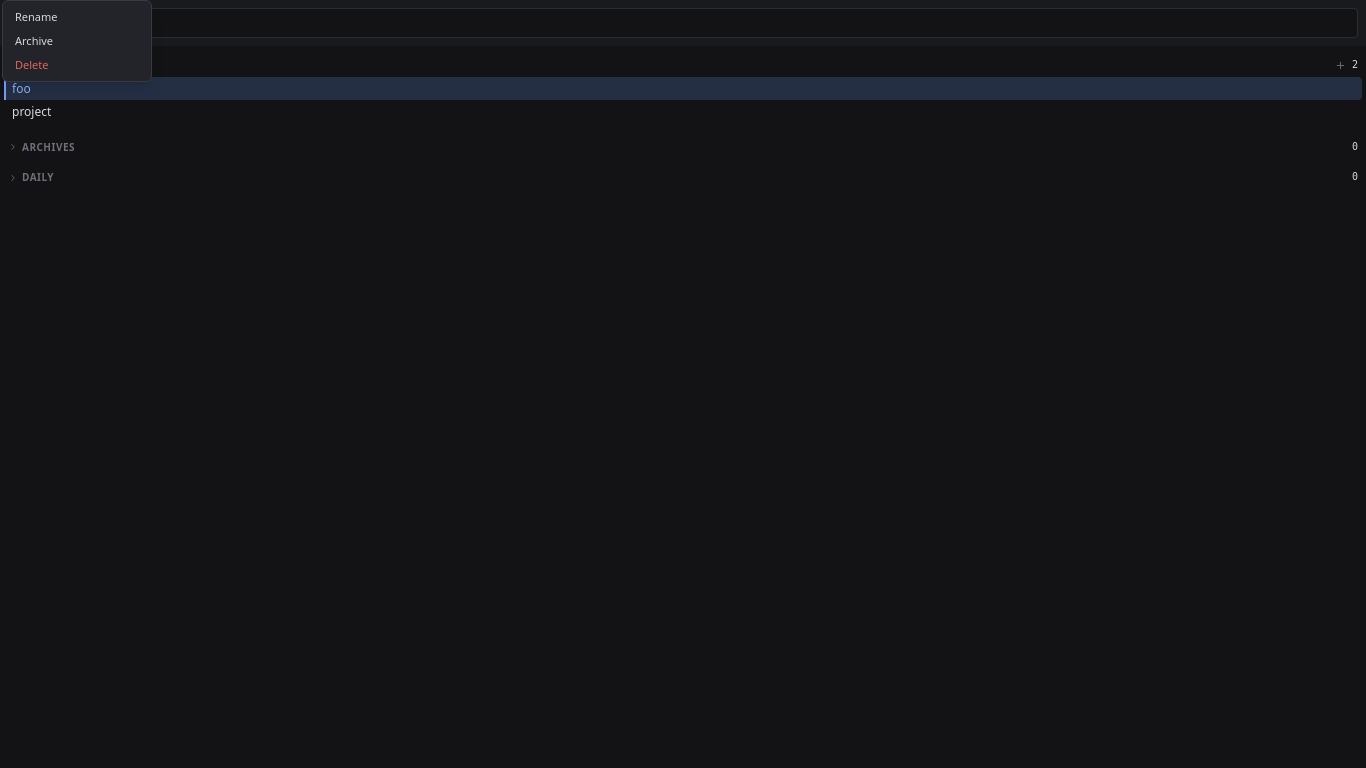
RenameNoteDialog › a 409 collision keeps the dialog open with the server message
Click the menu item "Rename" at (36, 16), box left=15, top=9, right=58, bottom=24
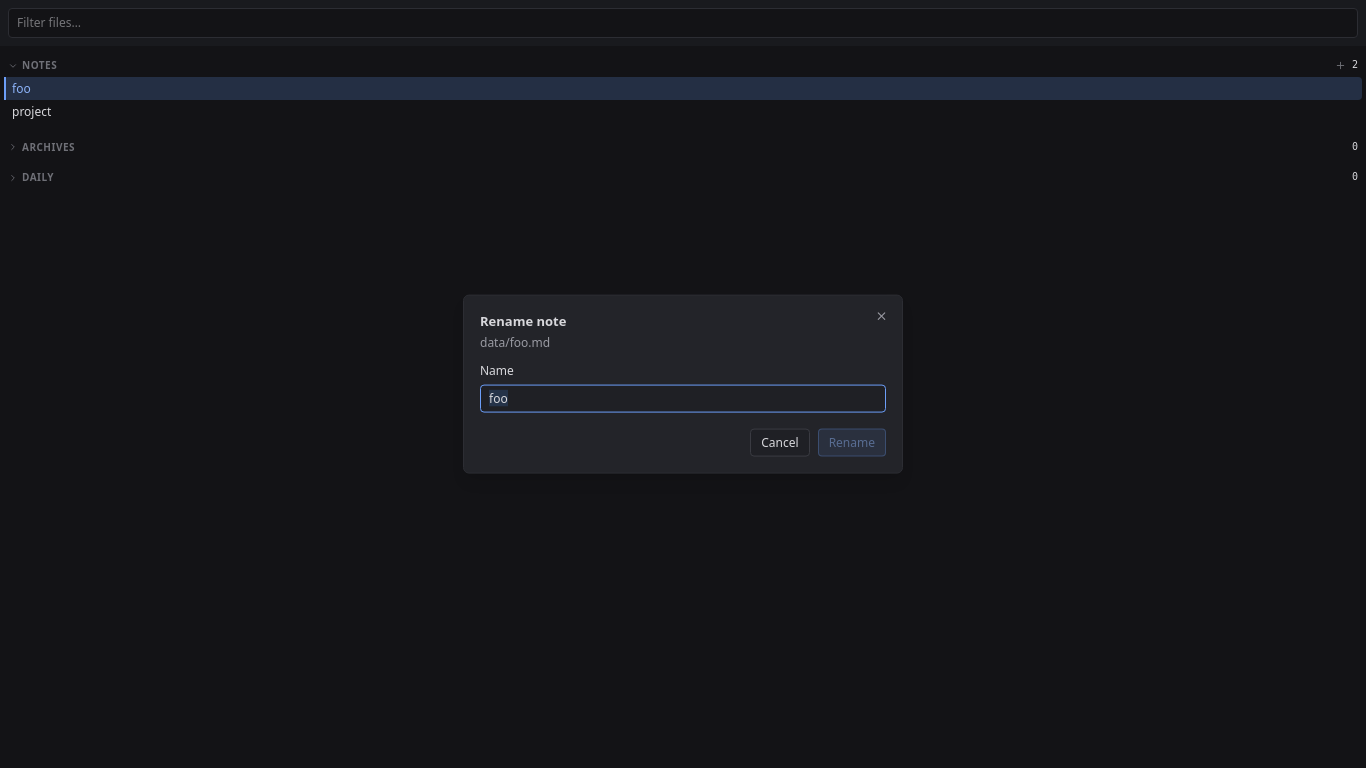
Expected: the field with test id "rename-note-name" is shown
Replace the text in the field with test id "rename-note-name" with "bar" at (683, 398), box left=480, top=384, right=886, bottom=412
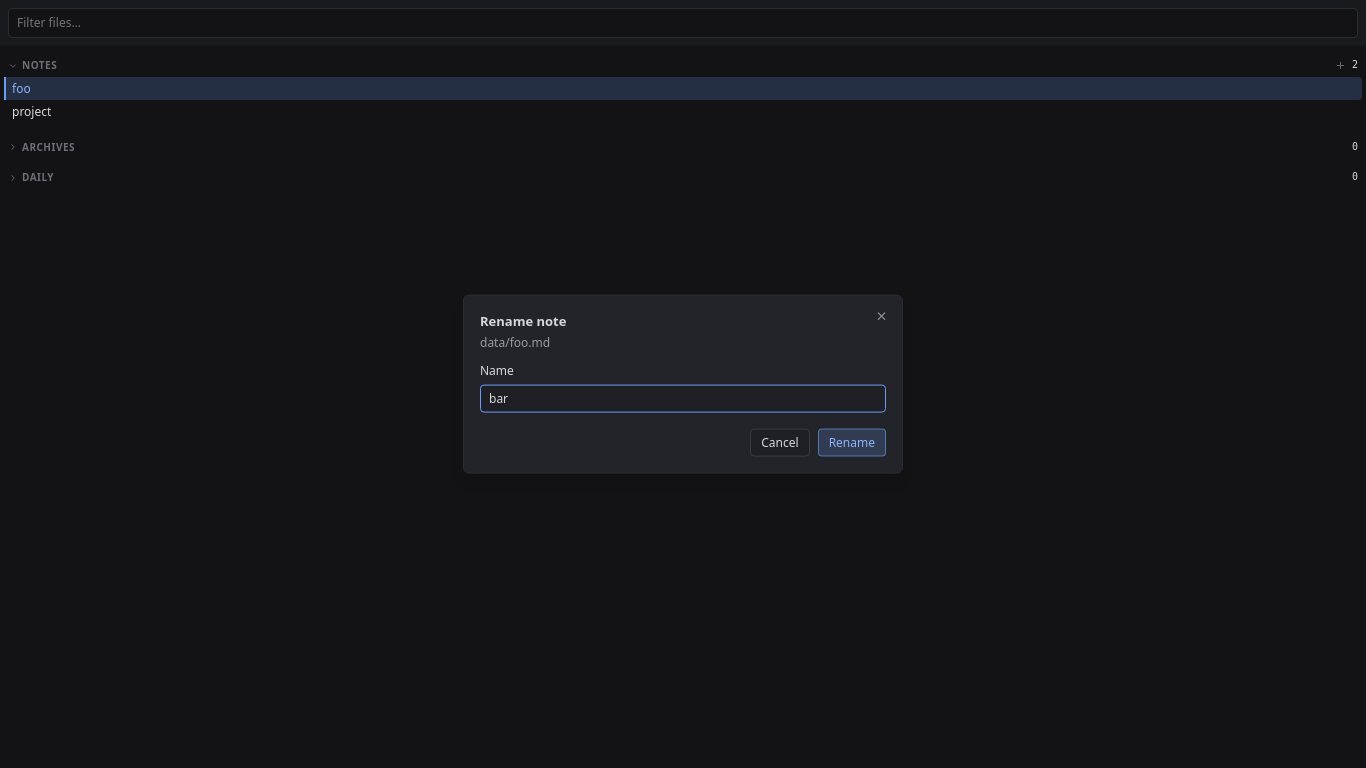
Click the button with test id "rename-note-submit" at (852, 442), box left=818, top=428, right=886, bottom=456
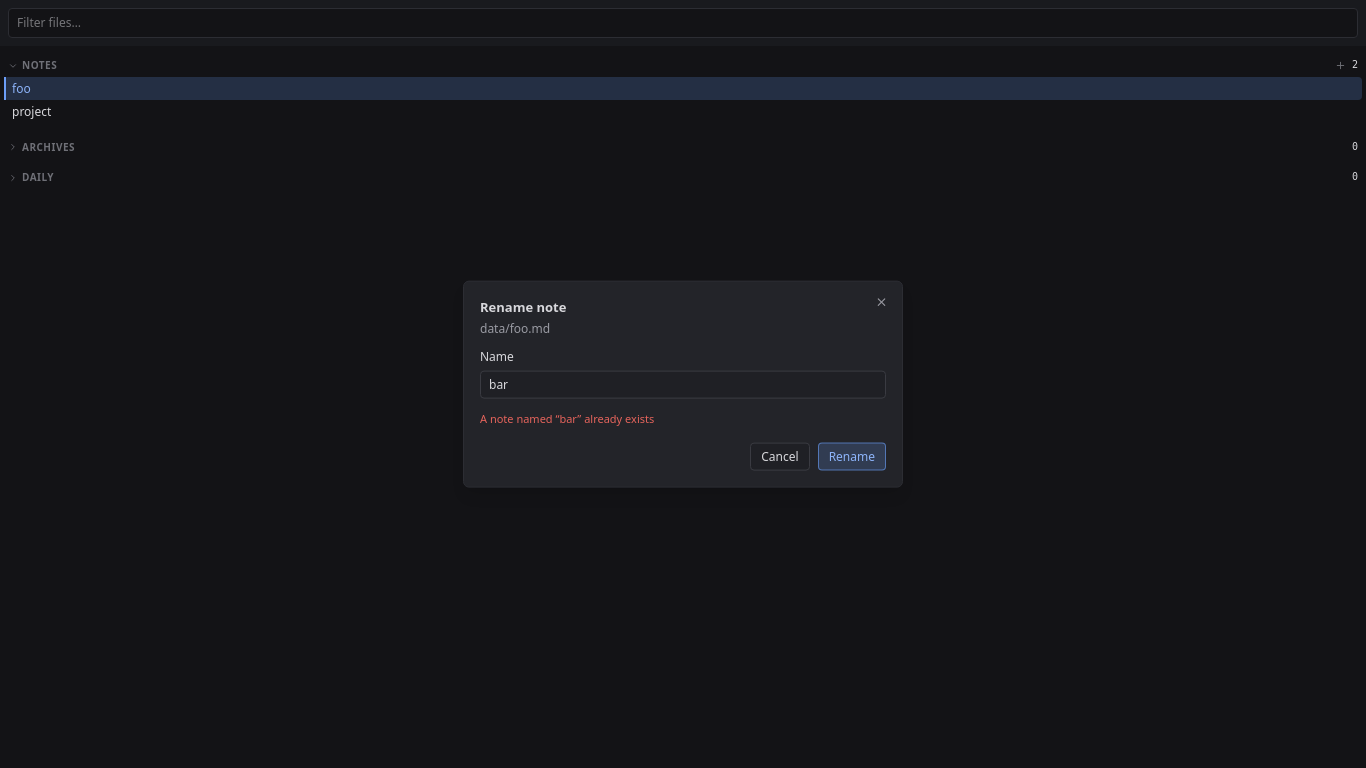
Expected: the text "data/foo.md" is shown, left=480, top=320, right=550, bottom=336
Expected: the message with test id "dialog-error" reads "A note named “bar” already exists", left=480, top=410, right=654, bottom=426
